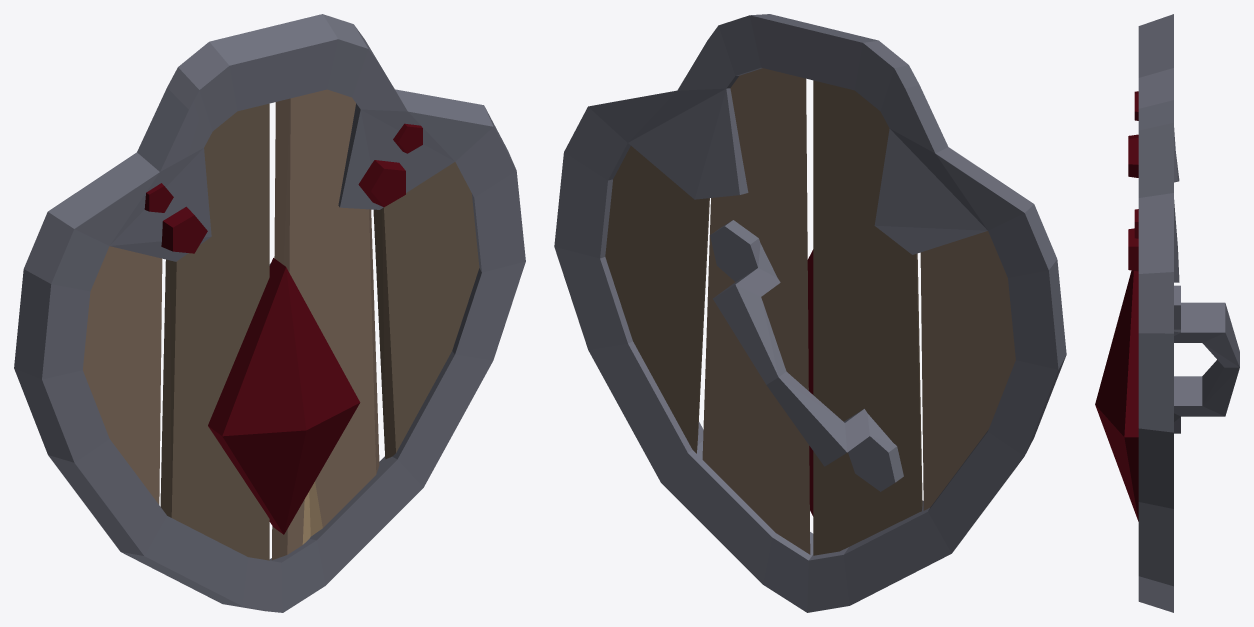
The model's file is shield_shield_7.glb.
3 views of the same model, side by side, from view 1: azimuth 30°, elevation 25°; view 2: azimuth 150°, elevation 25°; view 3: azimuth 270°, elevation 25° (orthographic). The views are drawn at different scales.
Visible parts, largest first — view 1: shield_7; view 2: shield_7; view 3: shield_7.
Part boxes in pixels (<box>): shield_7: <box>14,14,525,612</box>; shield_7: <box>554,14,1066,612</box>; shield_7: <box>1095,14,1239,612</box>.
Bounding box in the file's own units: 65.15 × 72.07 × 16.65.
Materials: 1 (1 with a texture image).
